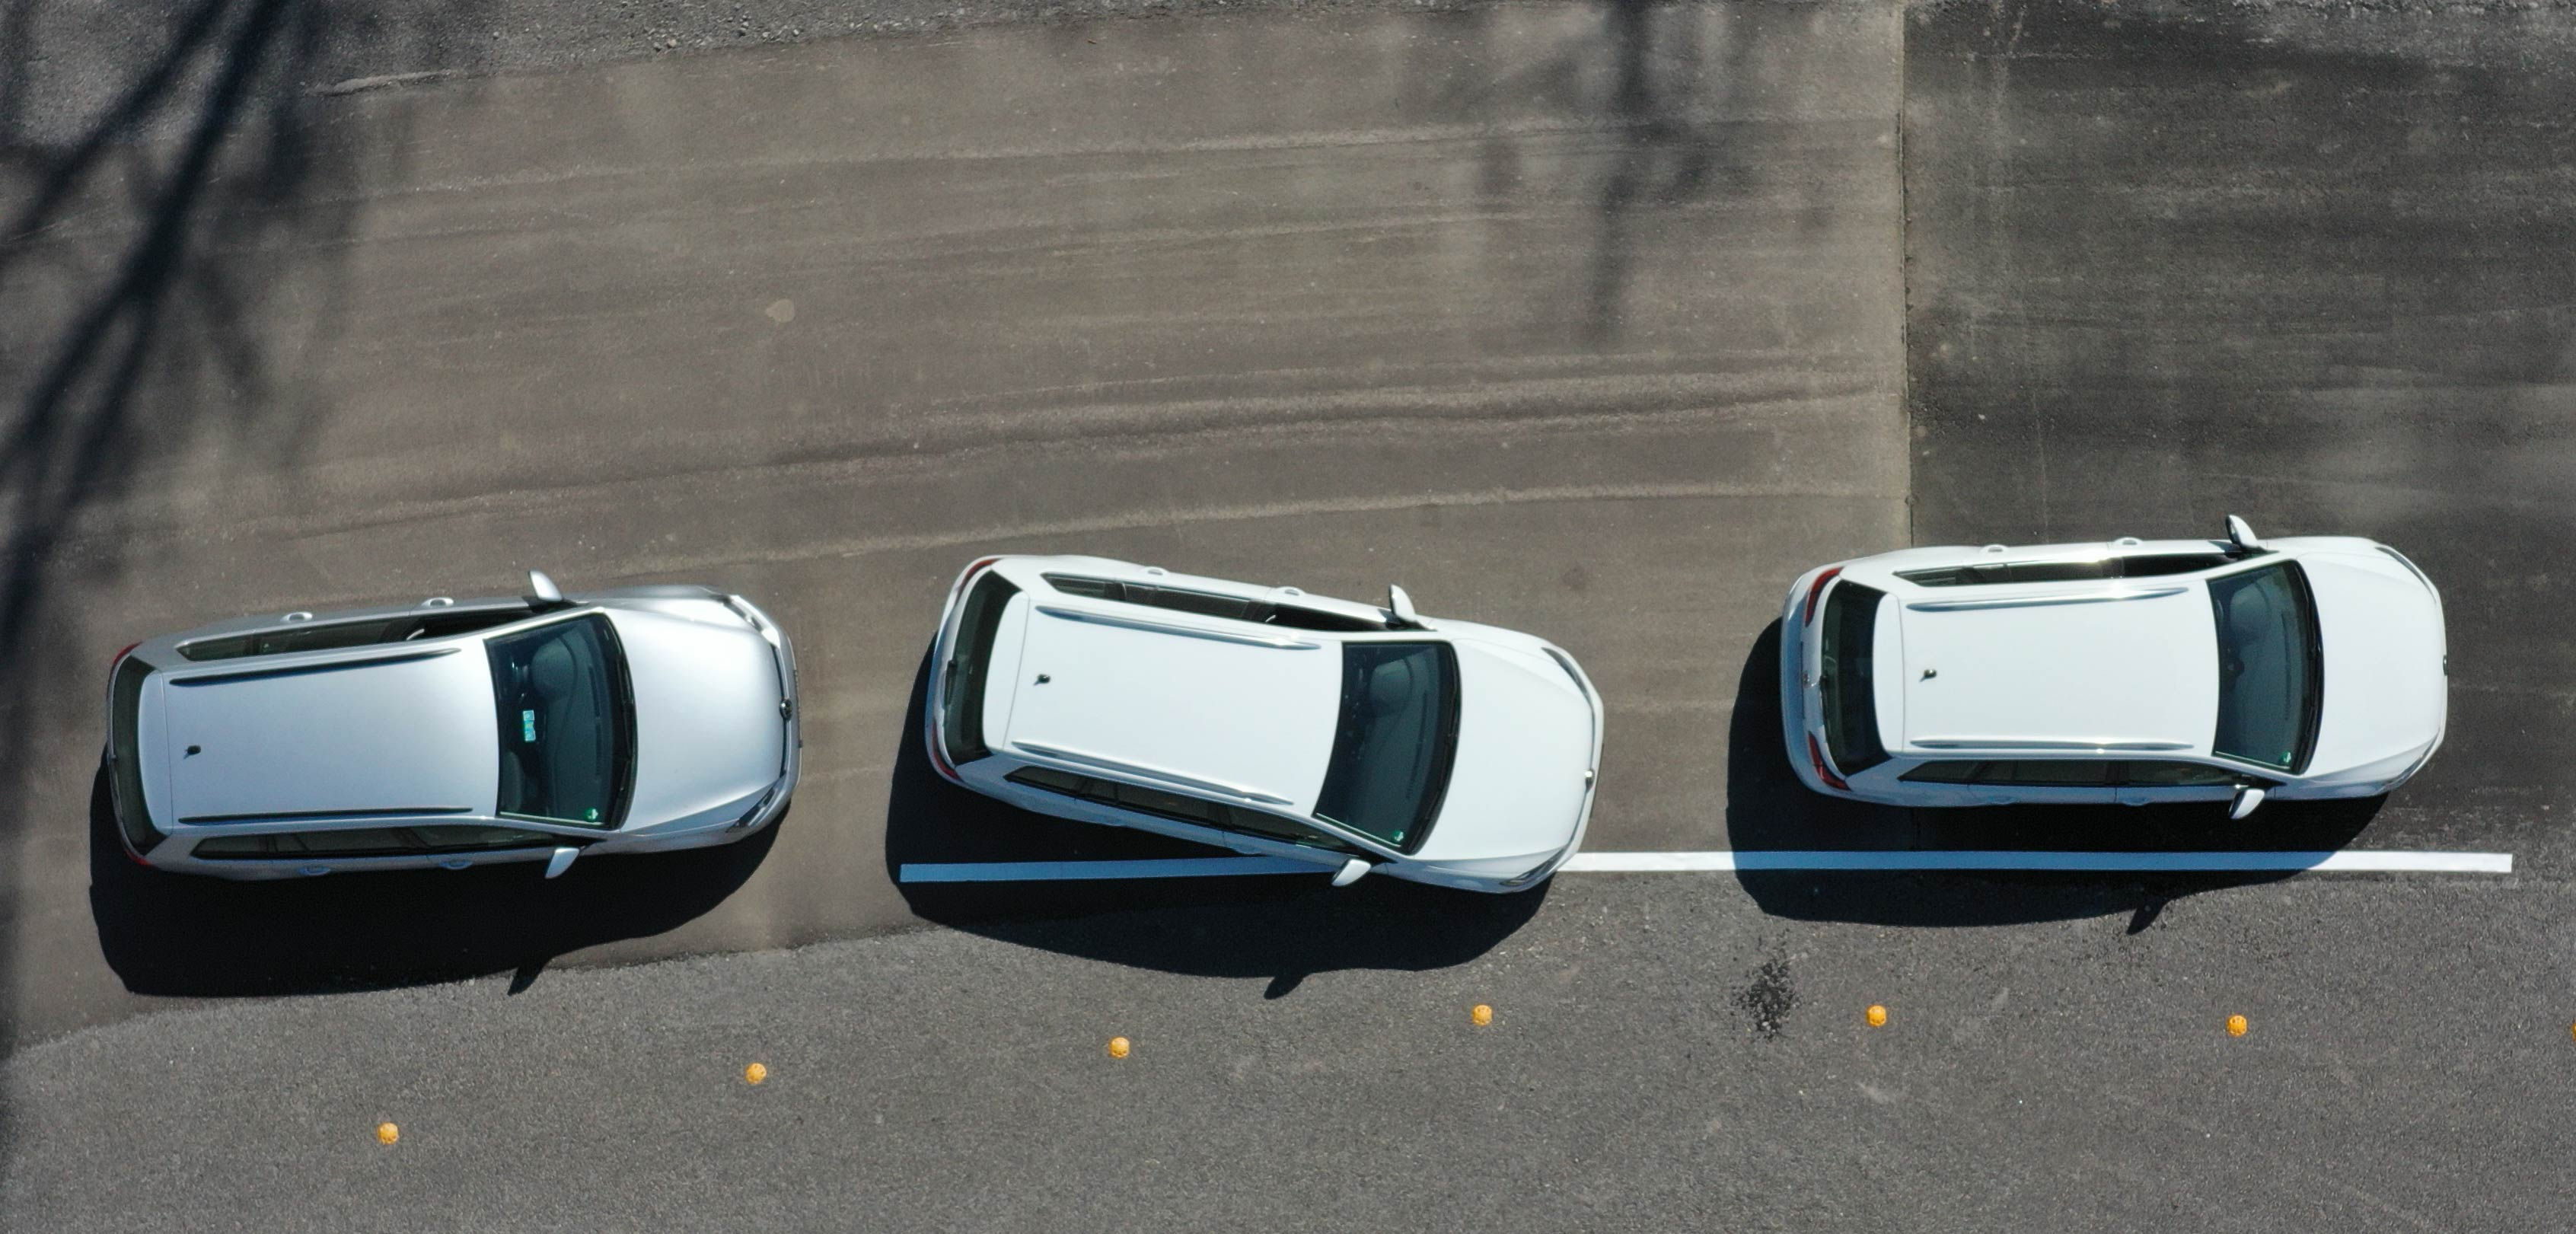Car: (912, 542, 1626, 912), (97, 569, 807, 900), (1753, 496, 2459, 828)
LaneMark: (1620, 845, 2520, 882), (895, 854, 1224, 894)
